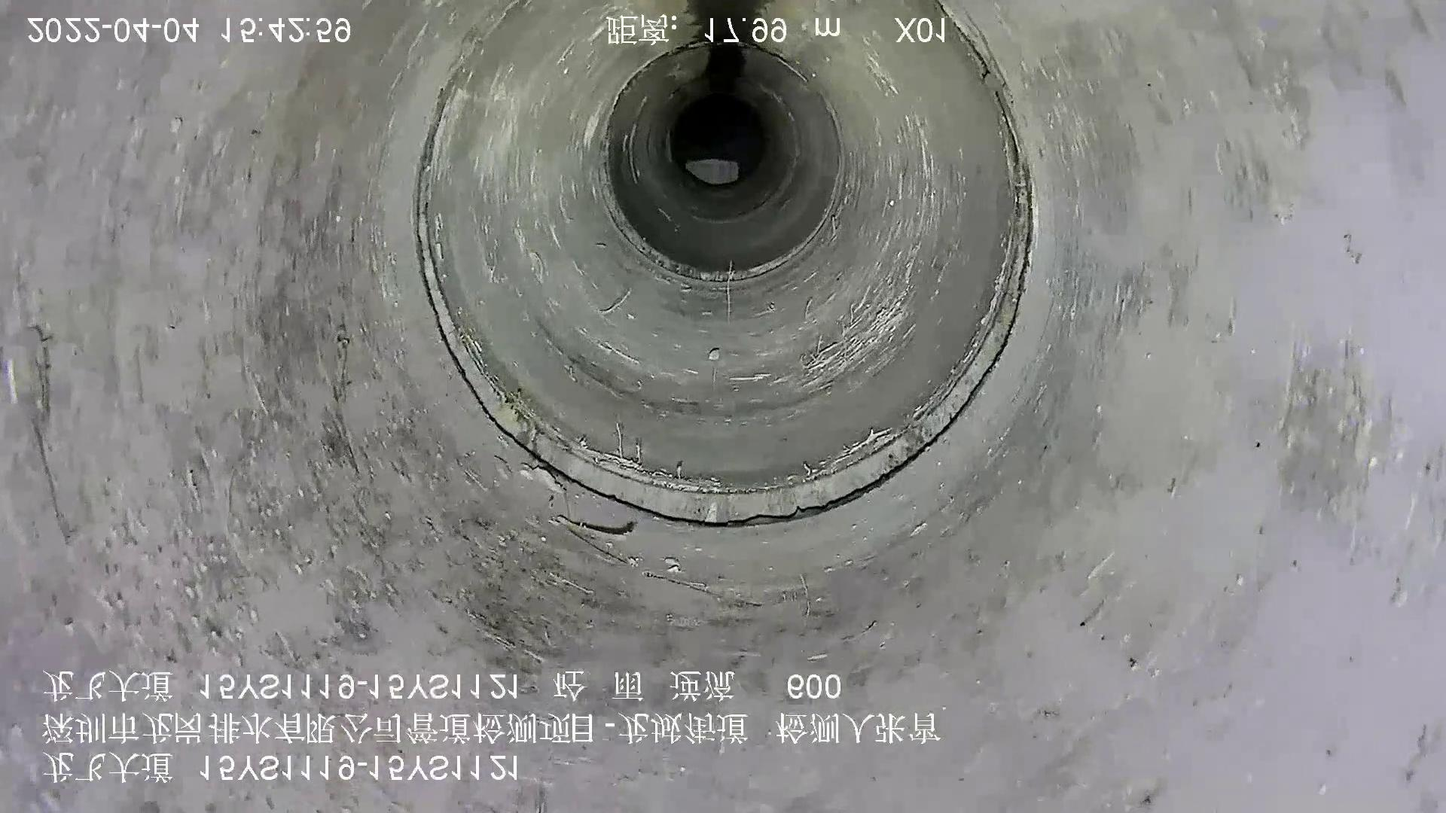CKTJ: (413, 1, 1032, 528), (599, 112, 847, 288)
